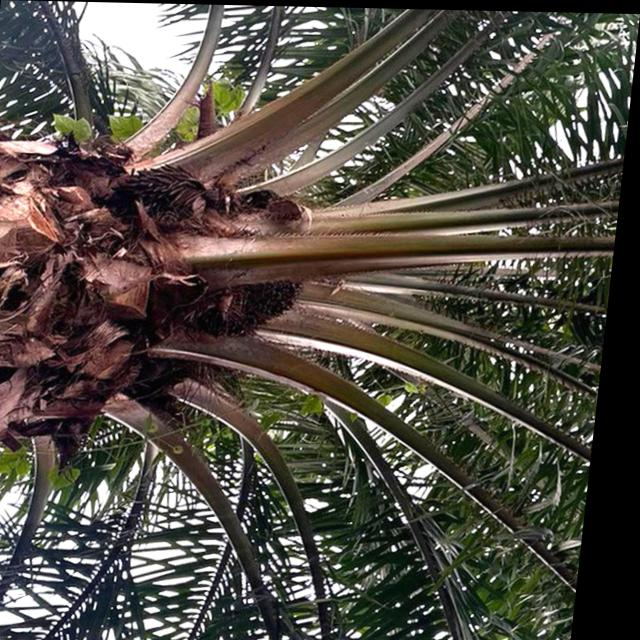ripe: (182, 180, 328, 346)
